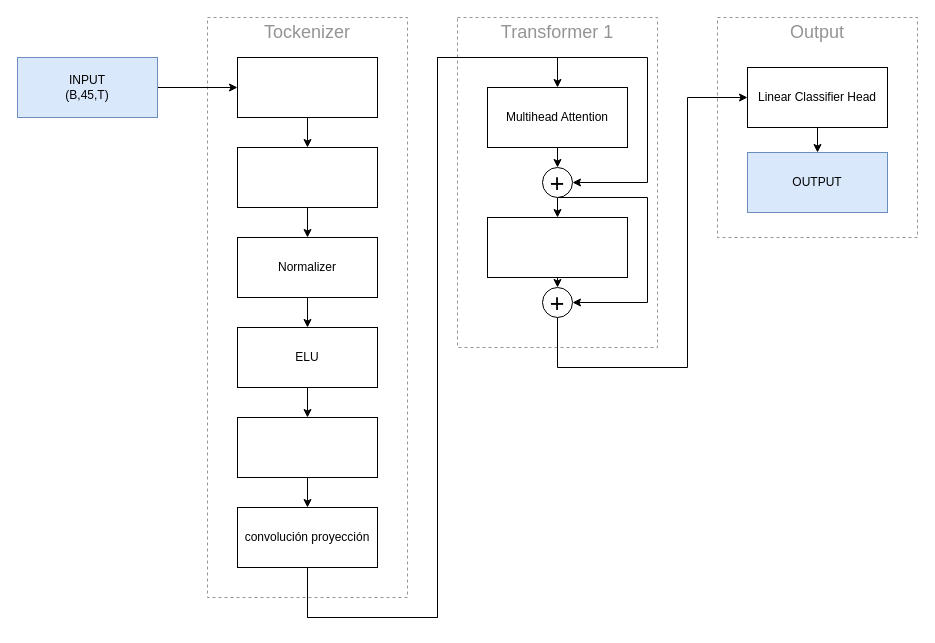
This 935x643 diagram has some shape labels left out. Here are the shapes that lost their labels. From the top down, the centre of each, then its label:
At point (307, 87): "Convolucion temporal 64 x kernel(1,25)".
At point (307, 177): "Convolucion espacial 128 x kernel(45,1)".
At point (557, 247): "Feed-forward Network".
At point (307, 447): "Avg pool (1,75)".
